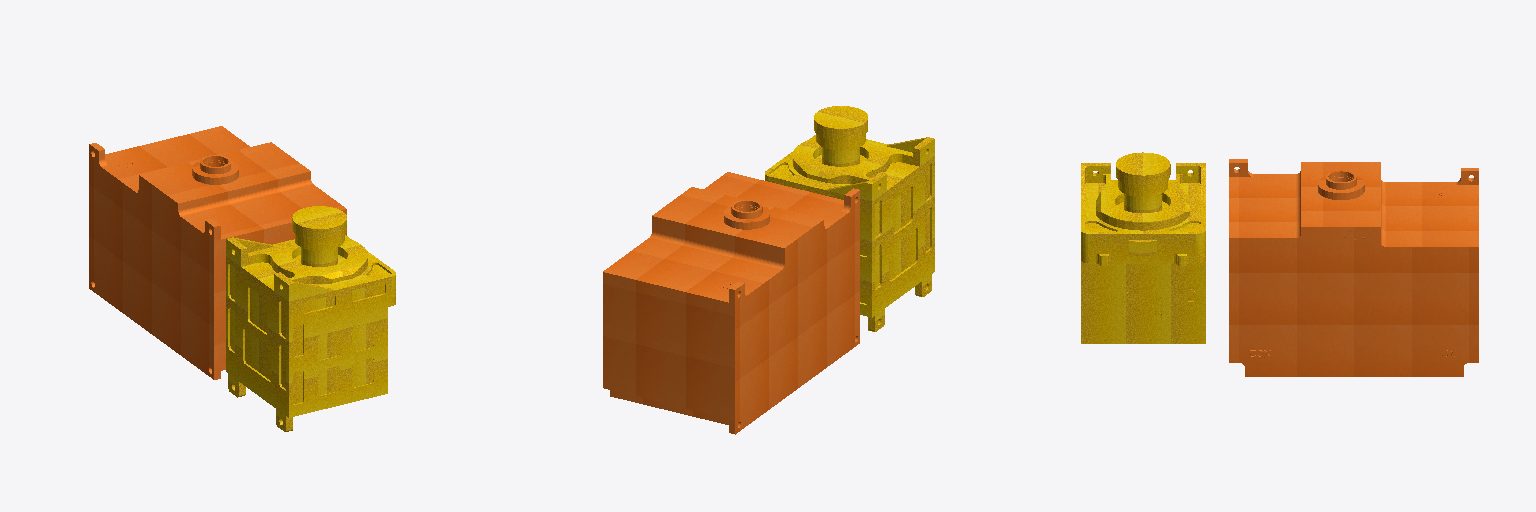
3 views of the same model, side by side, from view 1: azimuth 30°, elevation 25°; view 2: azimuth 150°, elevation 25°; view 3: azimuth 270°, elevation 25° (orthographic).
Parts seen in each view (by area): view 1: _DC_Shell; view 2: _DC_Shell; view 3: _DC_Shell.
Part boxes in pixels (bbox=[...]): _DC_Shell: bbox=[89, 126, 395, 431]; _DC_Shell: bbox=[603, 106, 934, 434]; _DC_Shell: bbox=[1081, 152, 1478, 376].
Bounding box in the file's own units: 99 × 126 × 255.
3 materials, 2 textured.